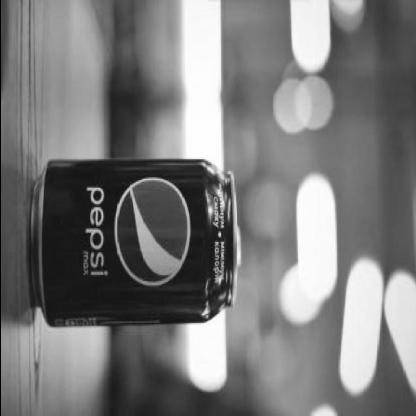alumunium_can: (28, 158, 240, 330)
